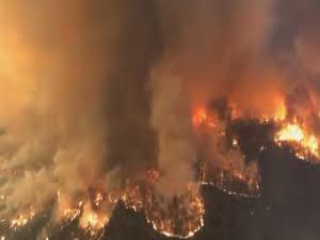fire: (249, 98, 315, 153)
smoke: (31, 27, 233, 215)
